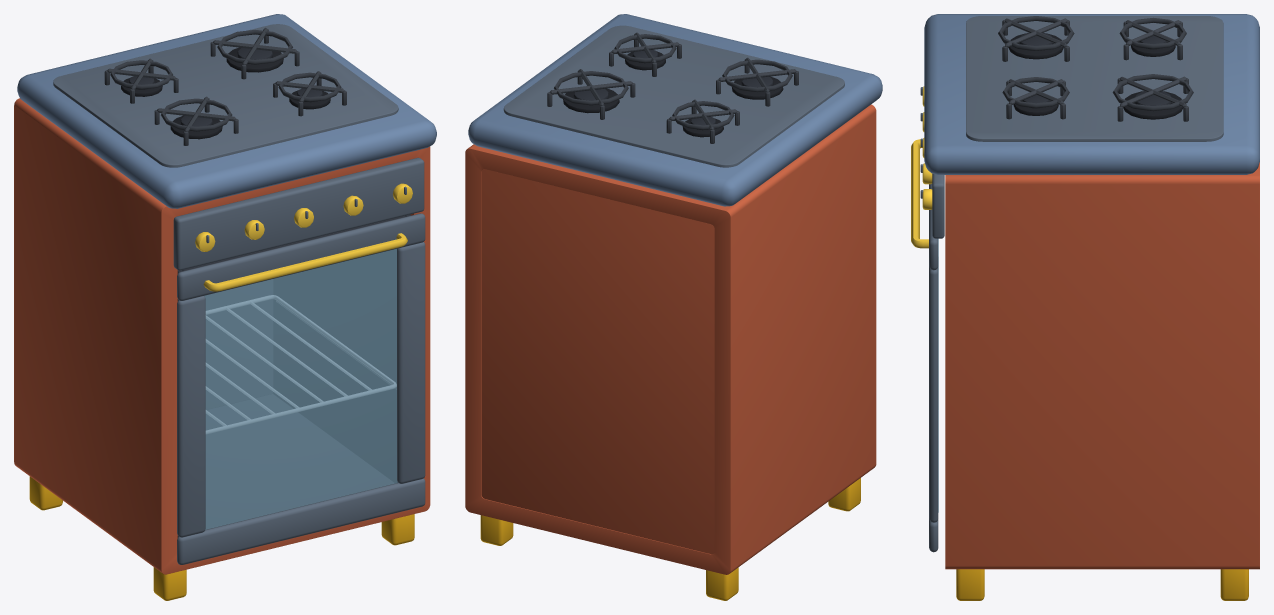
File: fogao_modulo_classica.glb
The picture shows the model from 3 angles, left to right: view 1: azimuth 30°, elevation 25°; view 2: azimuth 150°, elevation 25°; view 3: azimuth 270°, elevation 25°; orthographic projection. The views are drawn at different scales.
Visible parts, largest first — view 1: fogao_modulo_classica, porta_forno; view 2: fogao_modulo_classica; view 3: fogao_modulo_classica, porta_forno.
Part boxes in pixels (left/top/right/bottom): fogao_modulo_classica: left=14, top=14, right=436, bottom=600; porta_forno: left=177, top=213, right=425, bottom=564; fogao_modulo_classica: left=465, top=14, right=882, bottom=600; fogao_modulo_classica: left=920, top=14, right=1259, bottom=600; porta_forno: left=911, top=139, right=938, bottom=552.
Bounding box in the file's own units: 0.598 × 0.939 × 0.623.
Materials: 2 (1 with a texture image).
